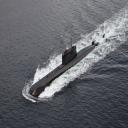submarine: (30, 31, 106, 98)
